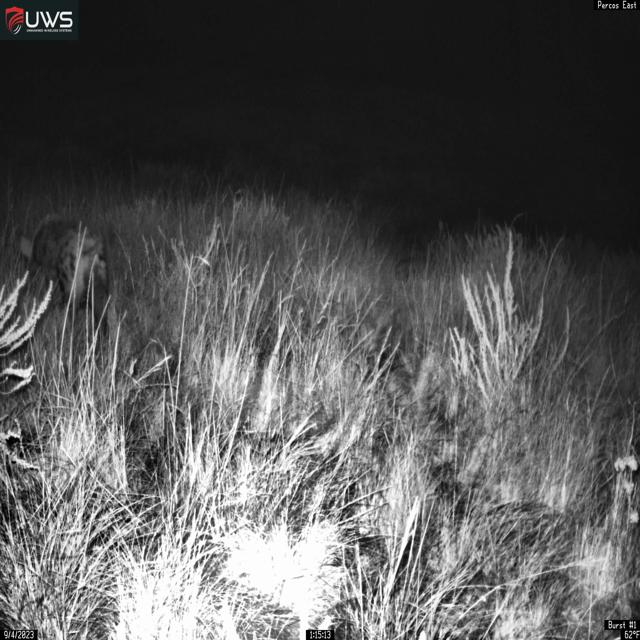pig: (17, 212, 112, 344)
